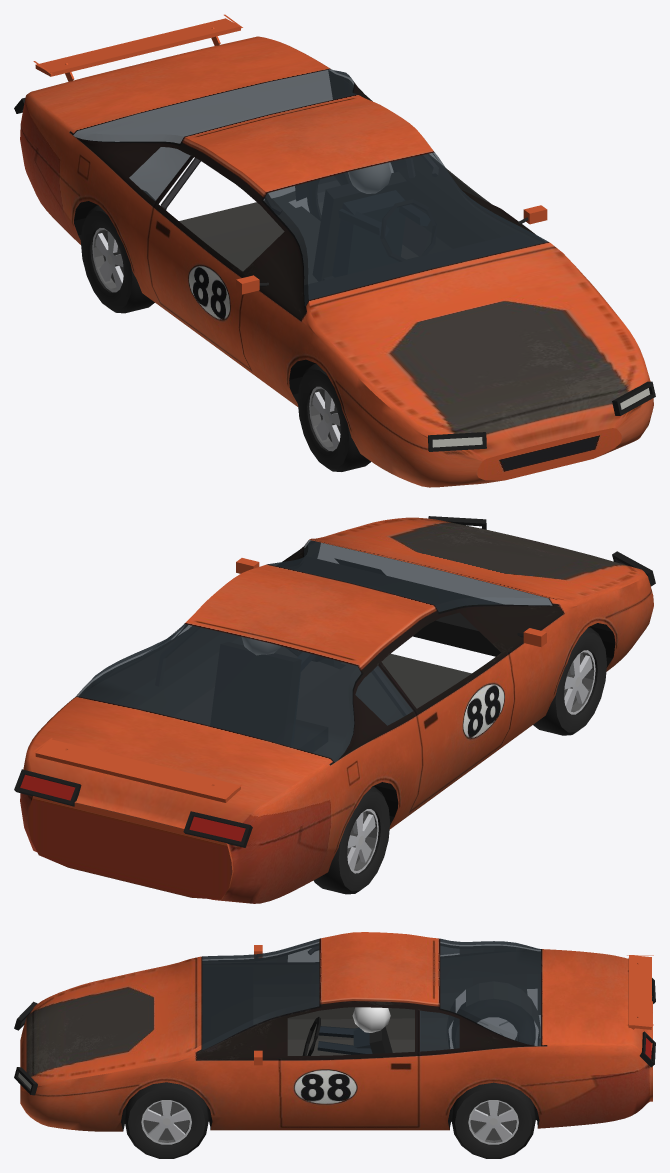
3 renders of one model, top to bottom at view 1: azimuth 30°, elevation 25°; view 2: azimuth 150°, elevation 25°; view 3: azimuth 270°, elevation 25°, orthographic. The views are drawn at different scales.
Visible parts, largest first — view 1: body, wheel_fr, wheel_rr, wheel_rl; view 2: body, wheel_rr, wheel_fr; view 3: body, wheel_fl, wheel_rl, wheel_rr.
Part boxes in pixels (x1,y1,x2,y2): body: (14,14,655,487); wheel_fr: (297,363,370,471); wheel_rr: (80,205,154,313); wheel_rl: (306,172,350,220); body: (14,516,655,903); wheel_rr: (313,786,390,894); wheel_fr: (533,627,606,735); body: (14,932,655,1131); wheel_fl: (124,1082,208,1158); wheel_rl: (451,1082,535,1158); wheel_rr: (452,999,535,1048).
Bounding box in the file's own units: 2.09 × 1.3 × 5.04.
Materials: 2 (1 with a texture image).
